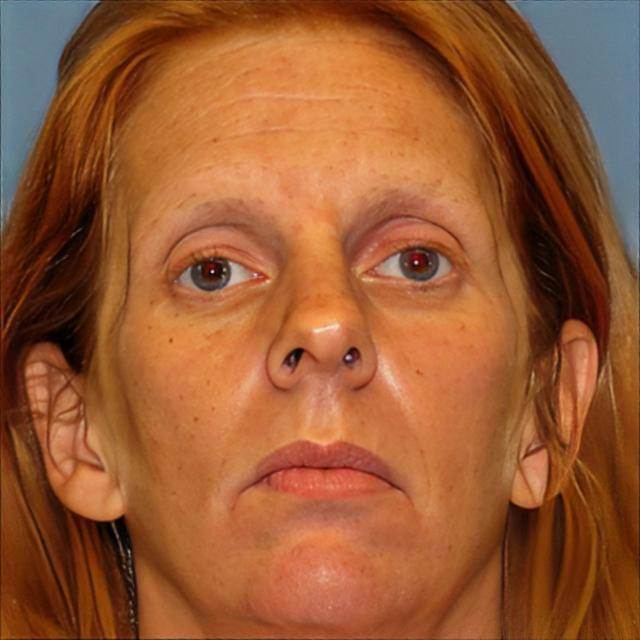neutral: (90, 6, 525, 640)
